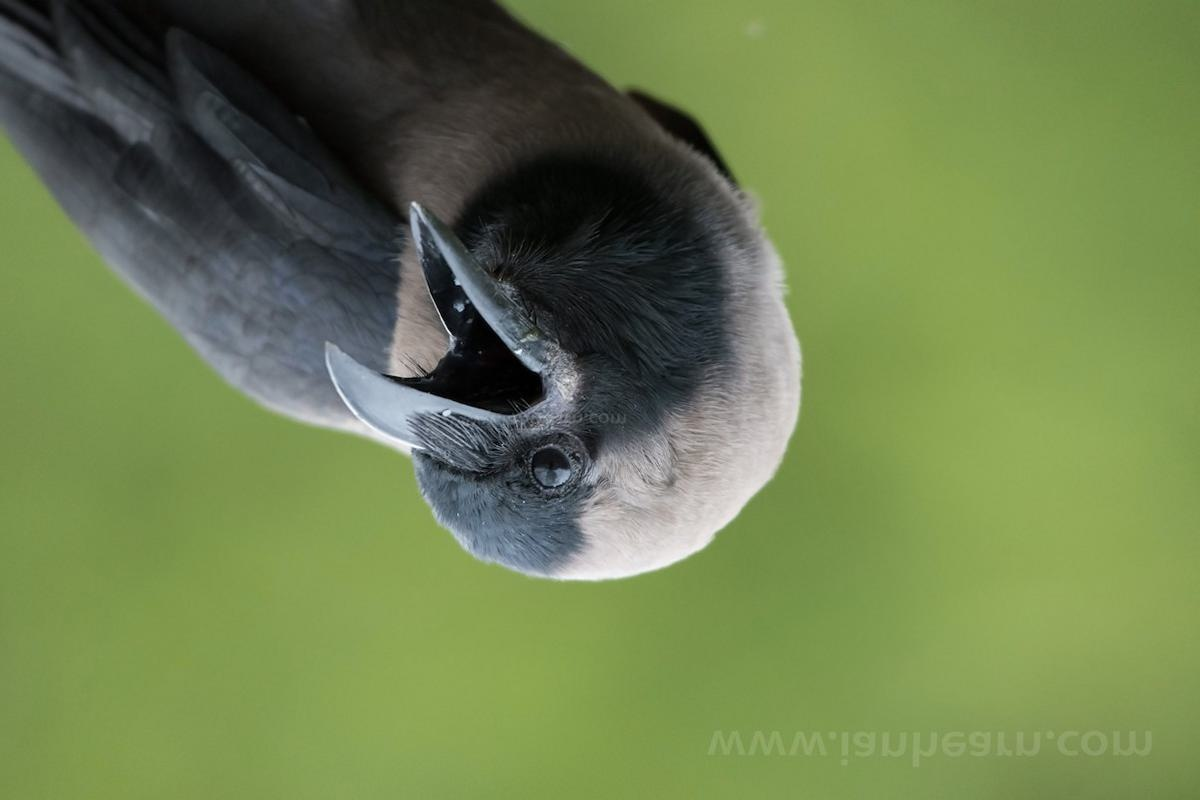crow: (6, 1, 835, 602)
